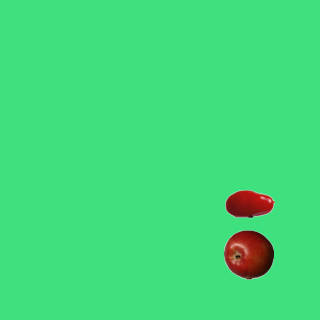Apple Braeburn: (223, 229, 273, 279)
Tomato 2: (224, 178, 274, 228)
